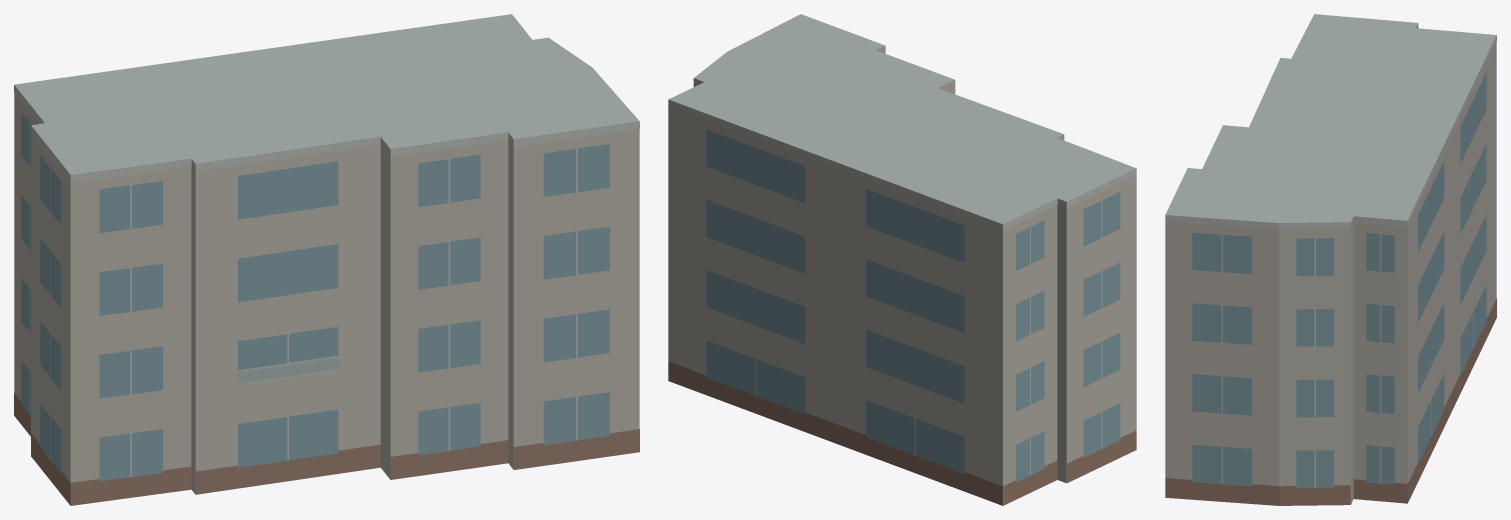
Rendered from survey-upis-32632734.glb.
3 views of the same model, side by side, from view 1: azimuth 30°, elevation 25°; view 2: azimuth 150°, elevation 25°; view 3: azimuth 270°, elevation 25° (orthographic). The views are drawn at different scales.
Parts seen in each view (by area): view 1: survey-upis-32632734.tmp; view 2: survey-upis-32632734.tmp; view 3: survey-upis-32632734.tmp.
Part boxes in pixels (x1,y1,x2,y2): survey-upis-32632734.tmp: (14,14,639,505); survey-upis-32632734.tmp: (668,14,1136,505); survey-upis-32632734.tmp: (1165,14,1496,505).
Bounding box in the file's own units: 16.51 × 10.4 × 11.06.
